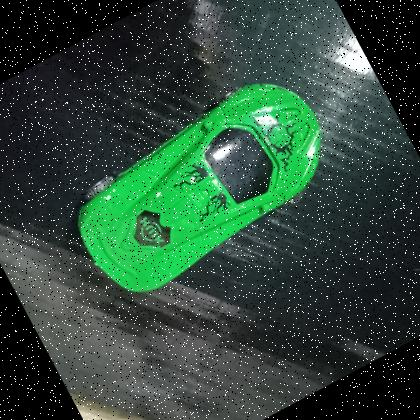Car: (45, 52, 362, 318)
